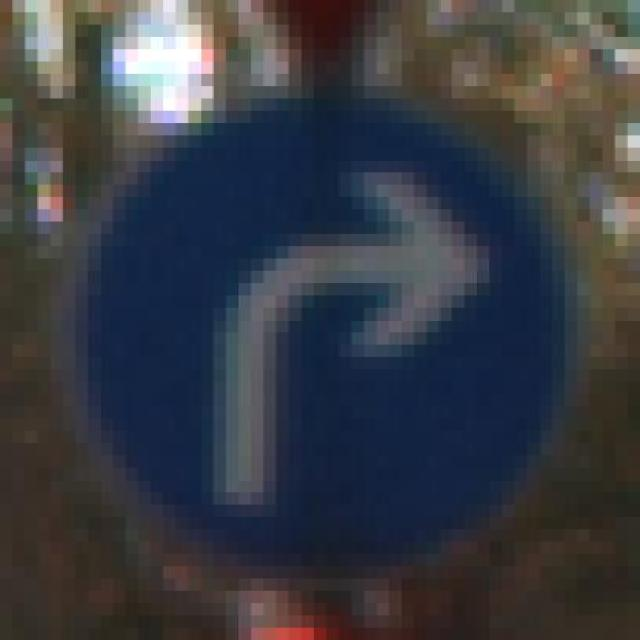Turn right ahead: (78, 54, 568, 608)
